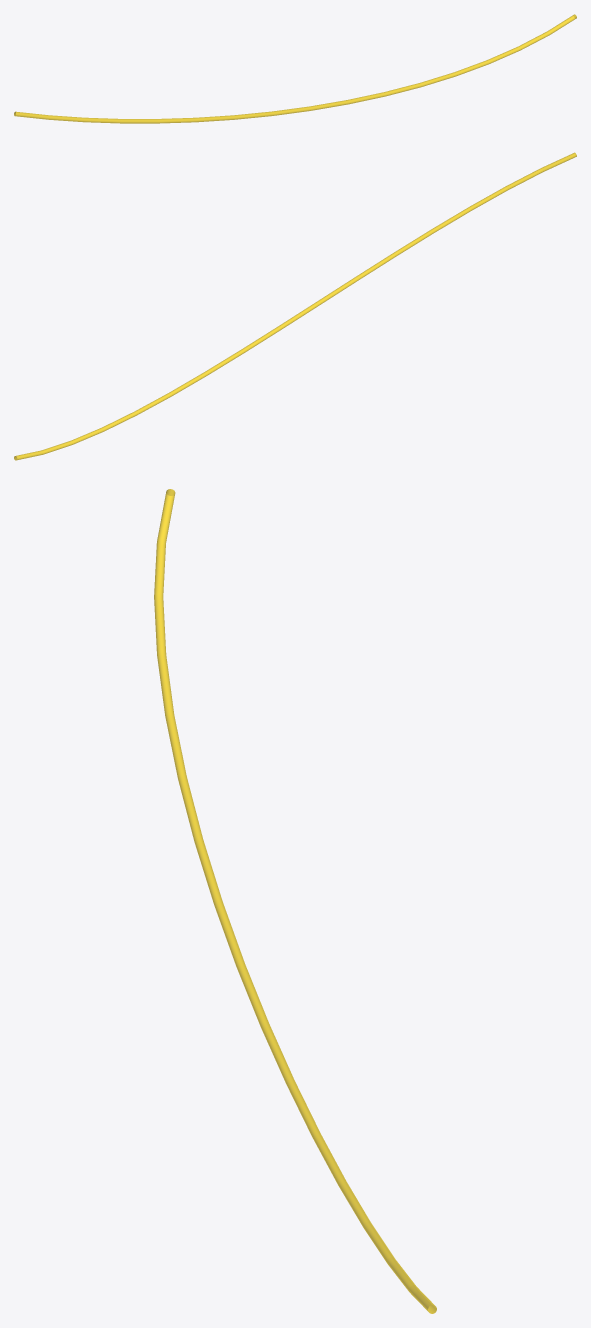
File: Event_419990632_track_89.fbx
3 renders of one model, top to bottom at view 1: azimuth 30°, elevation 25°; view 2: azimuth 210°, elevation 25°; view 3: azimuth 270°, elevation 25°, orthographic. The views are drawn at different scales.
Visible parts, largest first — view 1: Model; view 2: Model; view 3: Model.
Part boxes in pixels (x1,y1,x2,y2): Model: (14,14,576,123); Model: (14,152,576,460); Model: (154,489,436,1313).
Bounding box in the file's own units: 6.26 × 1.1 × 1.22.
